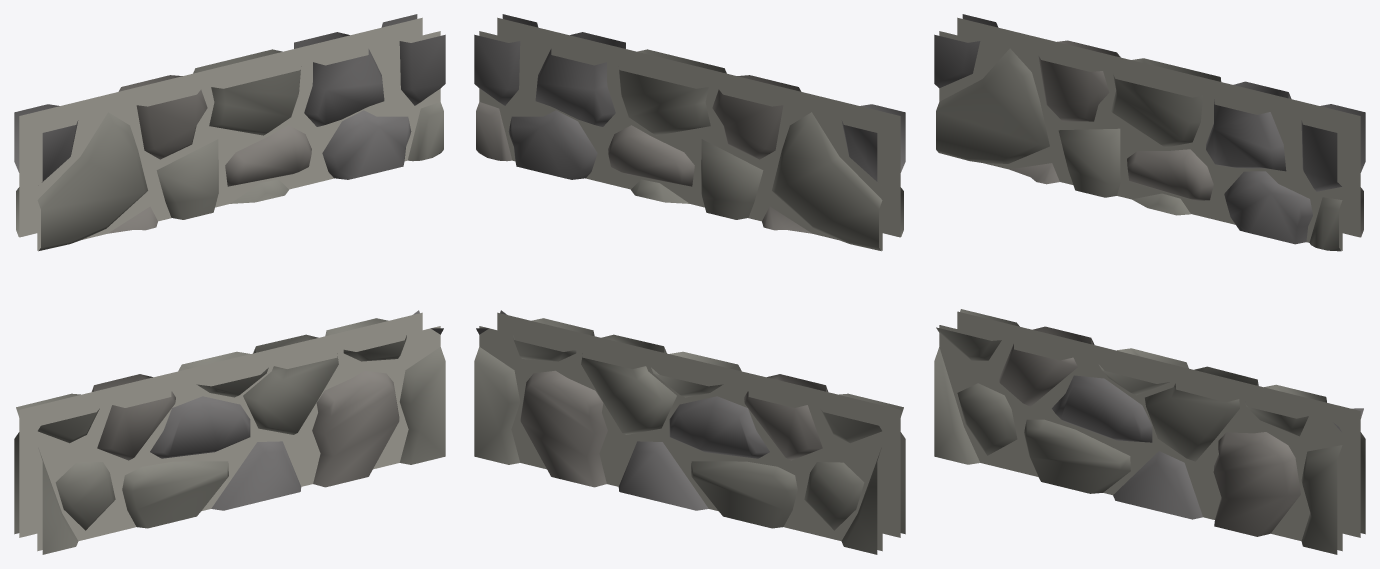
File: rpgpp_ag_wall_04_3x3_window_02a.fbx
3 views of the same model, side by side, from view 1: azimuth 30°, elevation 25°; view 2: azimuth 150°, elevation 25°; view 3: azimuth 330°, elevation 25° (orthographic).
Visible parts, largest first — view 1: rpgpp_ag_wall_04_3x3_window_02a; view 2: rpgpp_ag_wall_04_3x3_window_02a; view 3: rpgpp_ag_wall_04_3x3_window_02a.
Boxes of the visible parts, x1,y1,x2,y2 form: rpgpp_ag_wall_04_3x3_window_02a: (14,14,445,554); rpgpp_ag_wall_04_3x3_window_02a: (474,14,905,554); rpgpp_ag_wall_04_3x3_window_02a: (934,14,1365,554).
Size of the model in its own units: 3 by 3 by 0.404.
